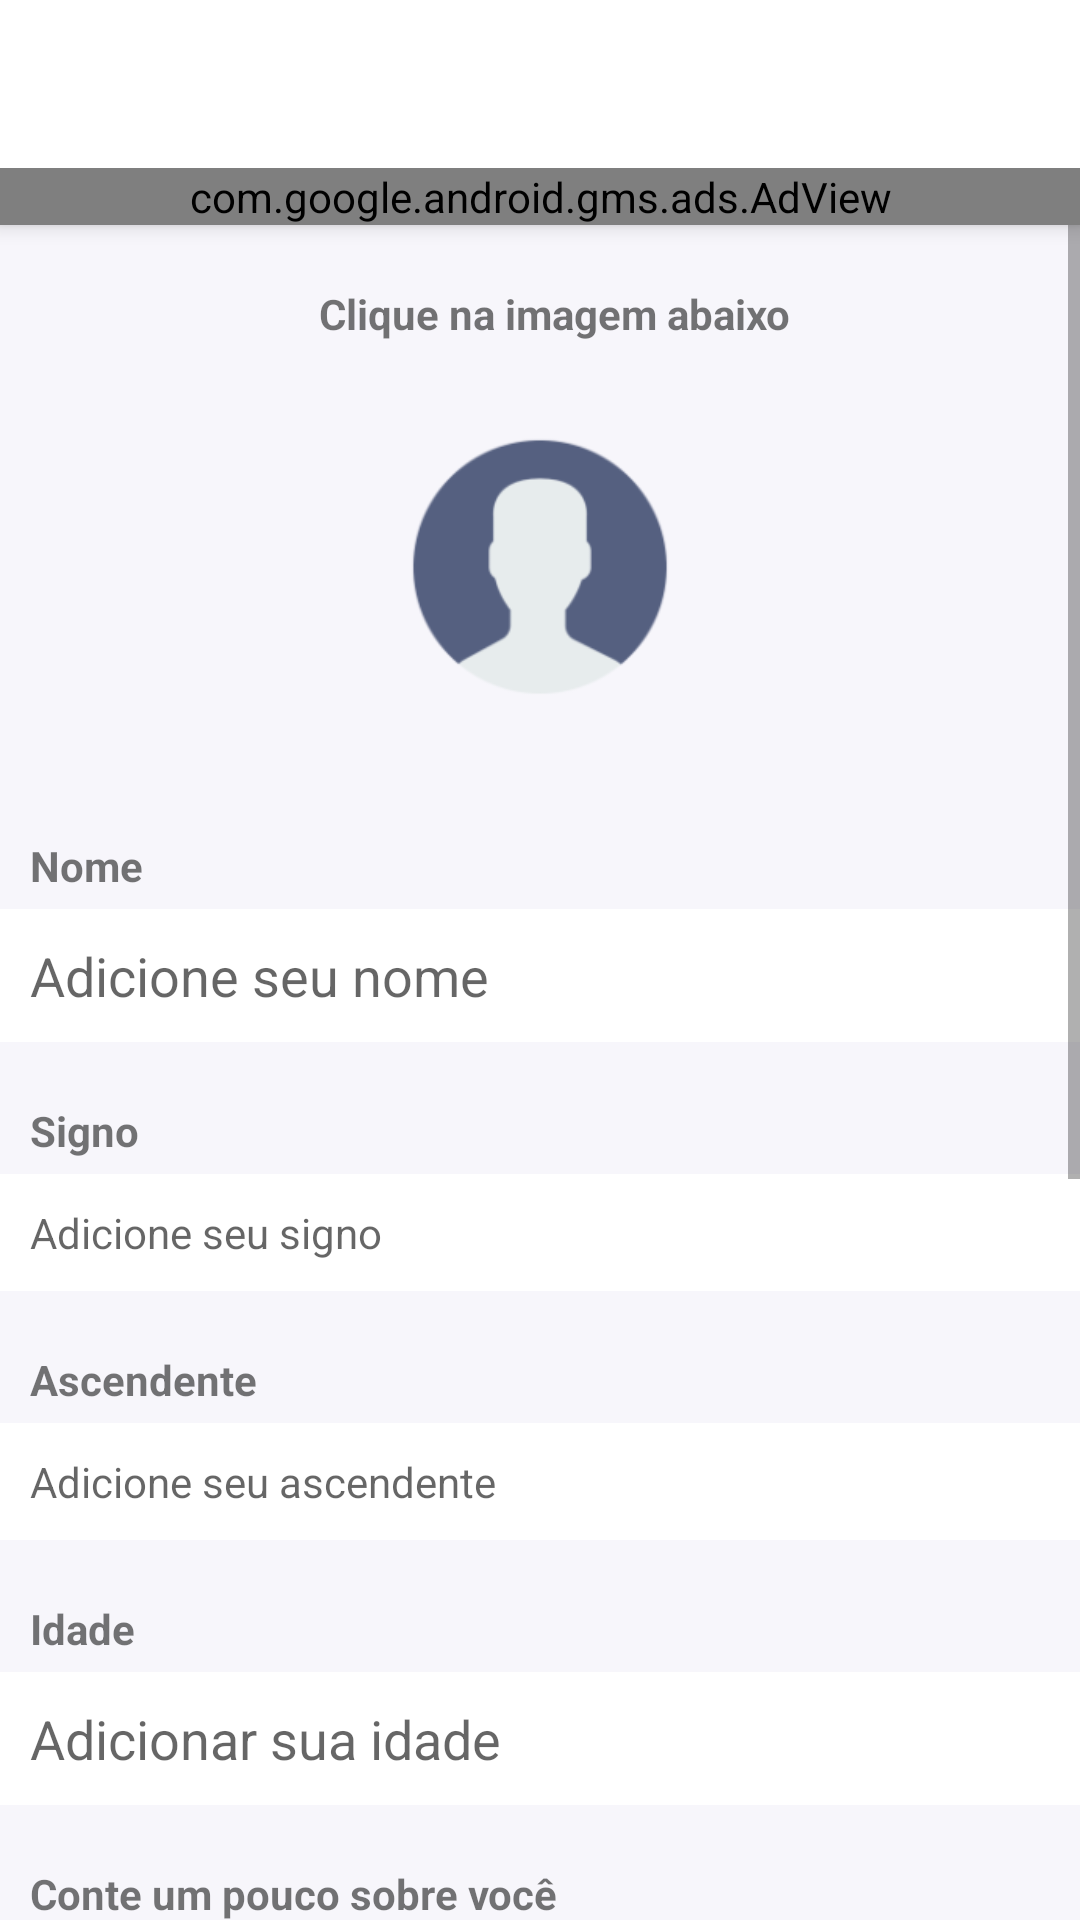

Locate icon controls on the screen. Image size 1080 × 1920, boxes as (x1=x1, y1=y1, x2=x2, y2=y2).
user: (x1=413, y1=440, x2=667, y2=665)
